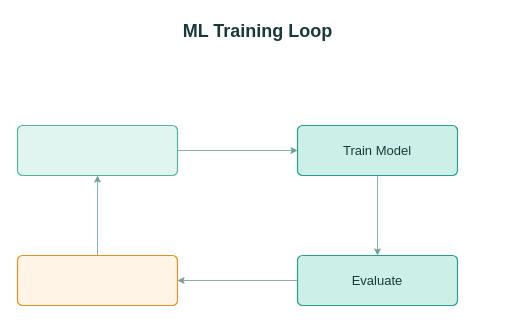
The diagram is 515 pixels wide and 323 high, and some of its shapes have lost their labels. Here are the shapes that lost their labels. From the top down, the centre of each, then its label:
At [97,150]: "Prepare Data".
At [97,280]: "Tune Hyperparams".
